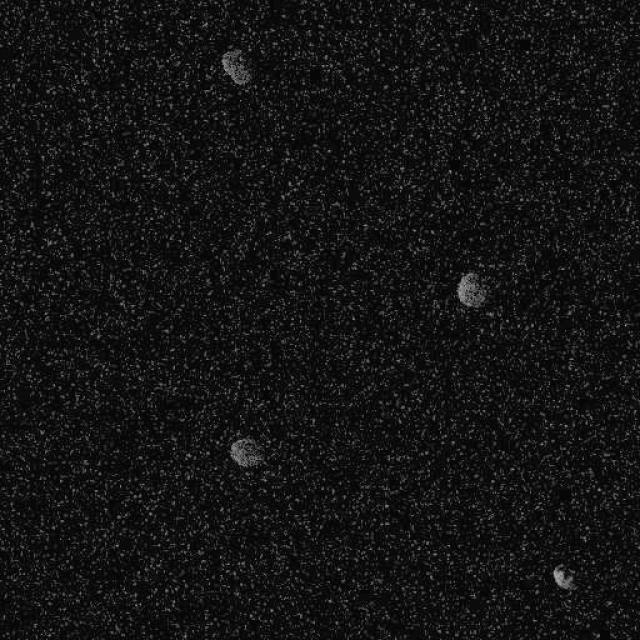D2: (455, 270, 490, 309), (220, 46, 254, 86), (227, 436, 265, 469), (552, 562, 578, 592)
